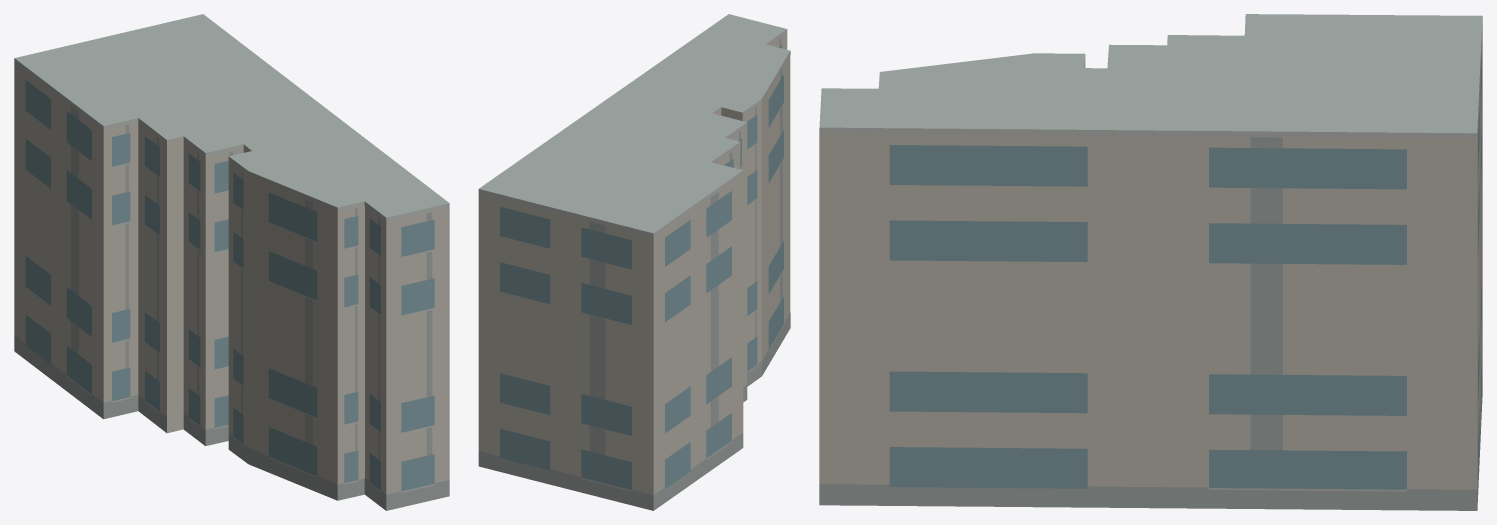
File: survey-upis-32577356.glb
The picture shows the model from 3 angles, left to right: view 1: azimuth 30°, elevation 25°; view 2: azimuth 150°, elevation 25°; view 3: azimuth 270°, elevation 25°; orthographic projection. The views are drawn at different scales.
Parts seen in each view (by area): view 1: survey-upis-32577356.tmp; view 2: survey-upis-32577356.tmp; view 3: survey-upis-32577356.tmp.
Boxes of the visible parts, x1,y1,x2,y2 form: survey-upis-32577356.tmp: [14, 14, 449, 510]; survey-upis-32577356.tmp: [478, 14, 790, 510]; survey-upis-32577356.tmp: [819, 14, 1482, 510].
Size of the model in its own units: 10.44 by 15.4 by 24.52.
